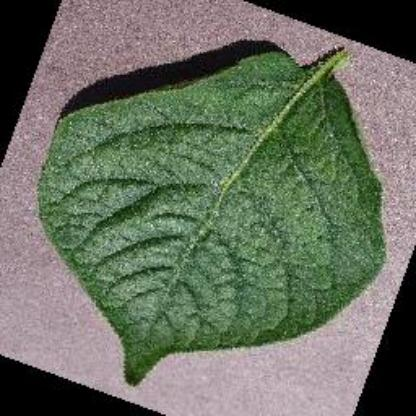Healthy-plant: (33, 45, 392, 385)
